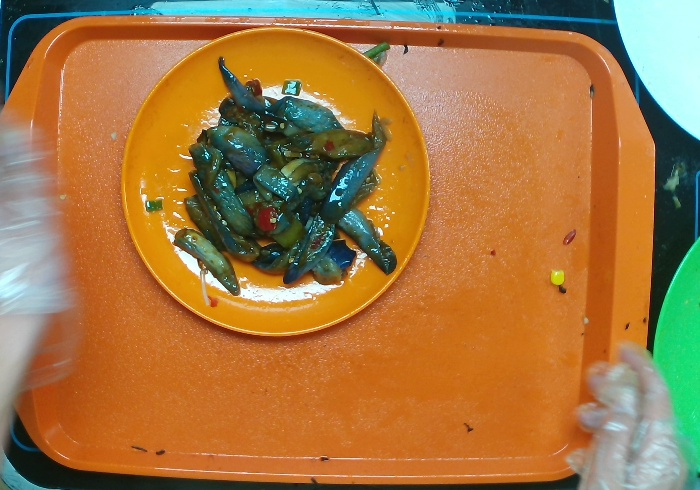HZYJPL-Ju_Huang_Yuan_Pan: (118, 22, 430, 338)
